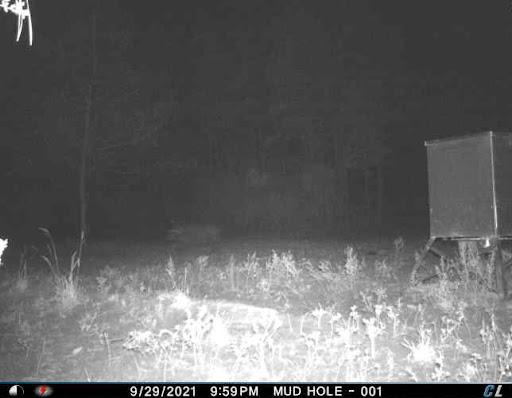Hog: (159, 218, 228, 257)
